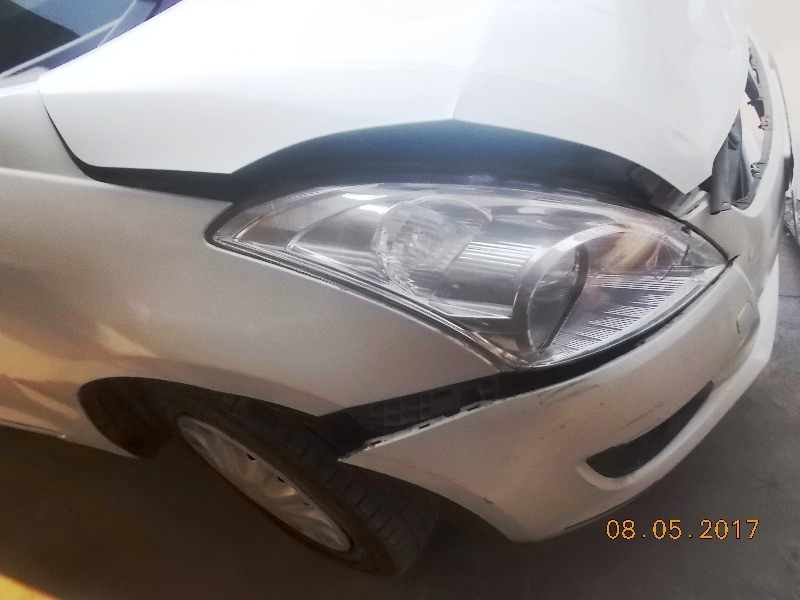Dislocation: (308, 360, 518, 473), (83, 144, 229, 227)
